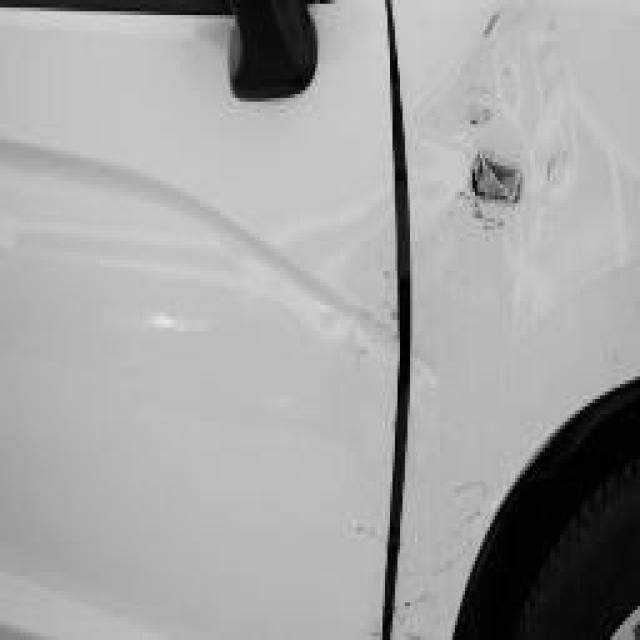Fender: (398, 11, 640, 358)
